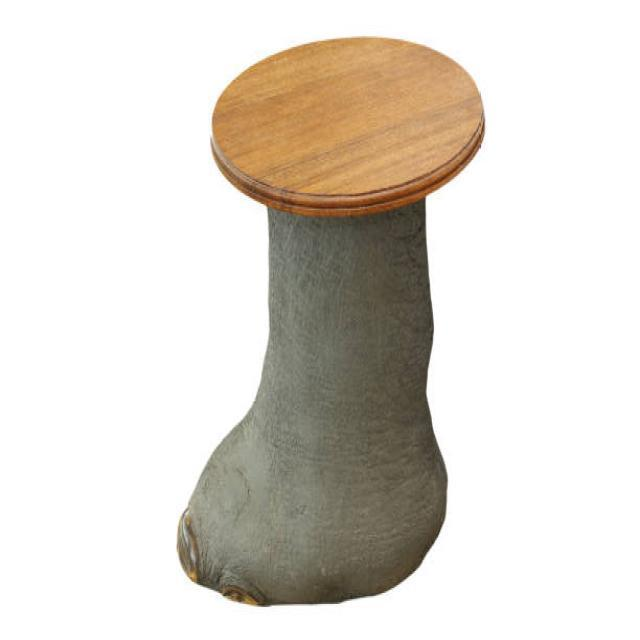table: (175, 34, 486, 606)
